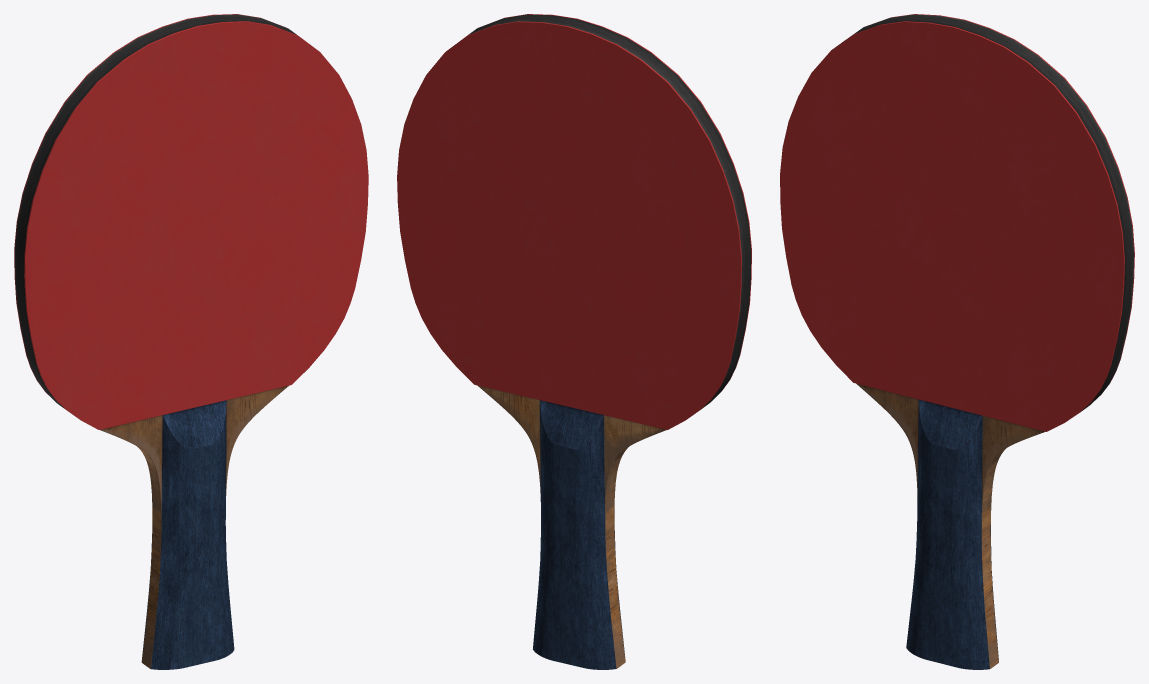
The model's file is paddle.glb.
3 renders of one model, left to right at view 1: azimuth 30°, elevation 25°; view 2: azimuth 150°, elevation 25°; view 3: azimuth 330°, elevation 25°, orthographic.
Visible parts, largest first — view 1: Paddle; view 2: Paddle; view 3: Paddle.
Part boxes in pixels (left/top/right/bottom): Paddle: left=14, top=14, right=368, bottom=669; Paddle: left=397, top=14, right=751, bottom=669; Paddle: left=780, top=14, right=1134, bottom=669.
Bounding box in the file's own units: 0.3514 × 0.6174 × 0.0413.
4 materials, 4 textured.
